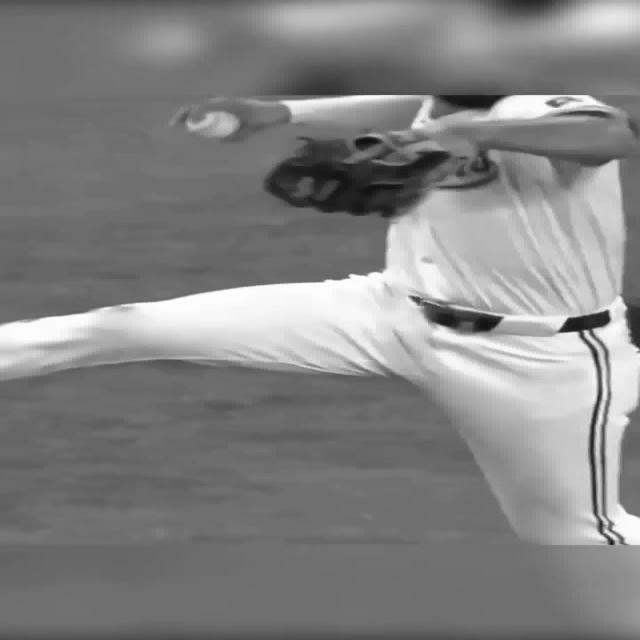baseball: (184, 110, 240, 138)
baseball_glove: (262, 133, 450, 217)
